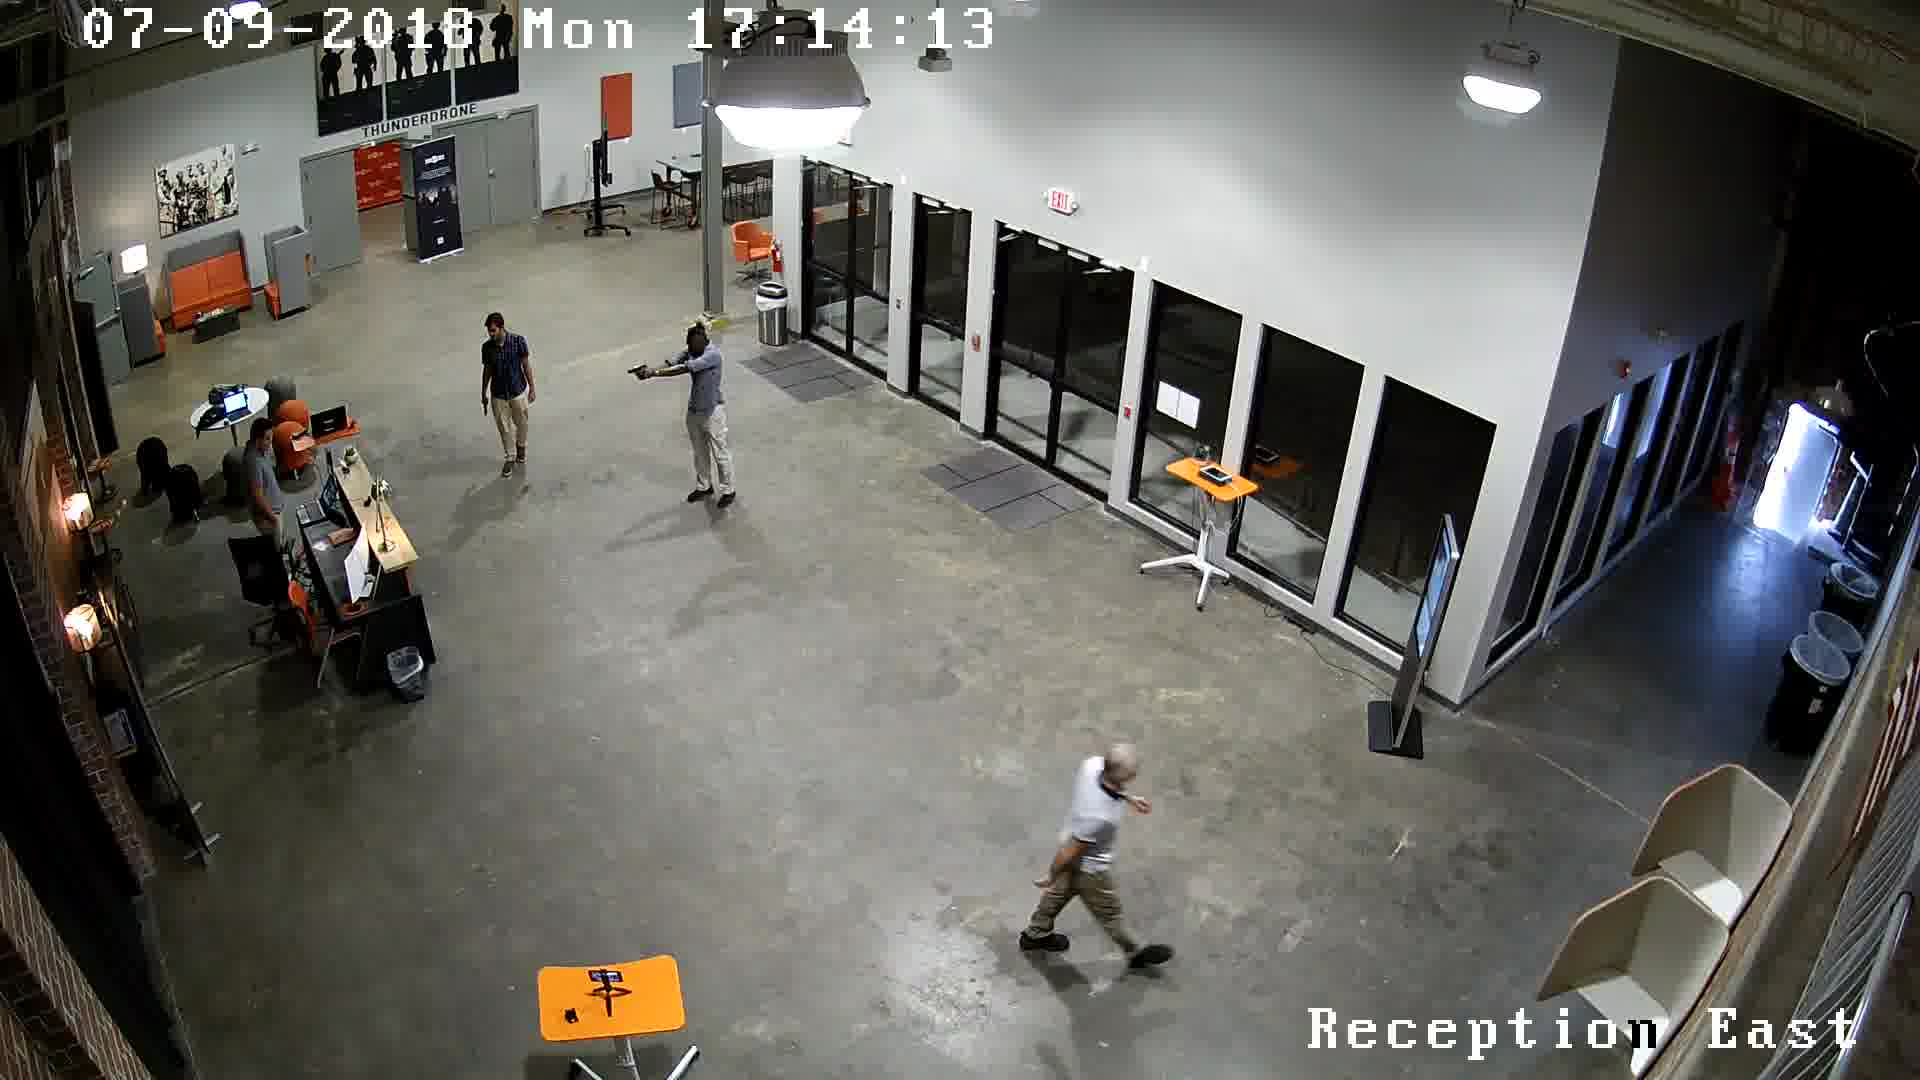pistol: (620, 360, 659, 388), (471, 392, 495, 429)
